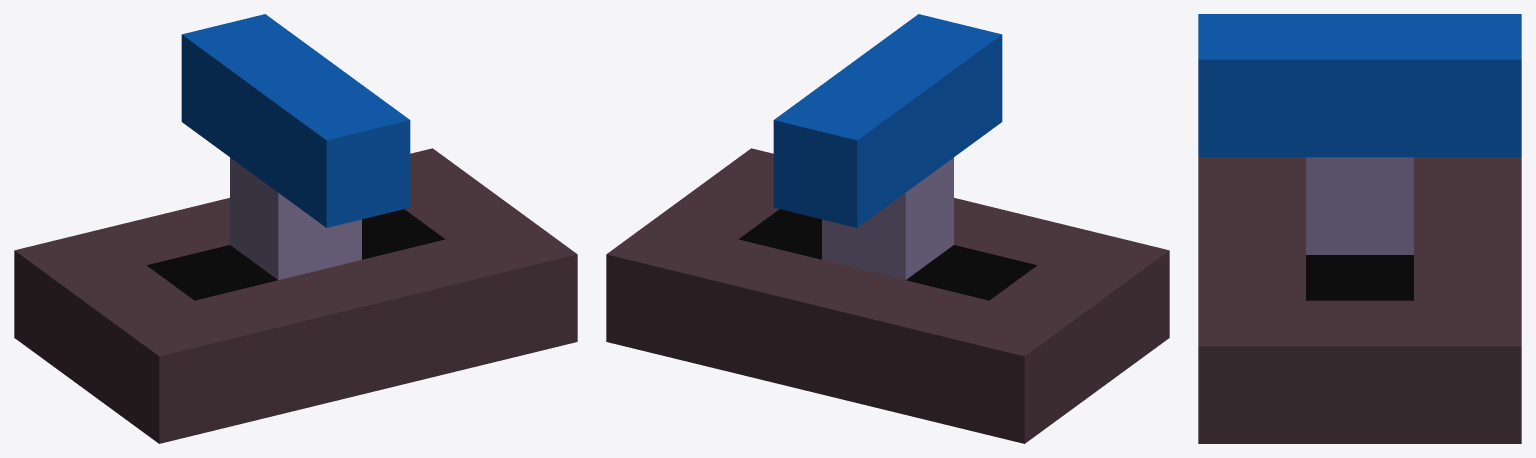
Rendered from lever_b_a_blue_off.obj.
The picture shows the model from 3 angles, left to right: view 1: azimuth 30°, elevation 25°; view 2: azimuth 150°, elevation 25°; view 3: azimuth 270°, elevation 25°; orthographic projection. The views are drawn at different scales.
Size of the model in its own units: 0.5 by 0.3 by 0.3.
1 material, 1 textured.
